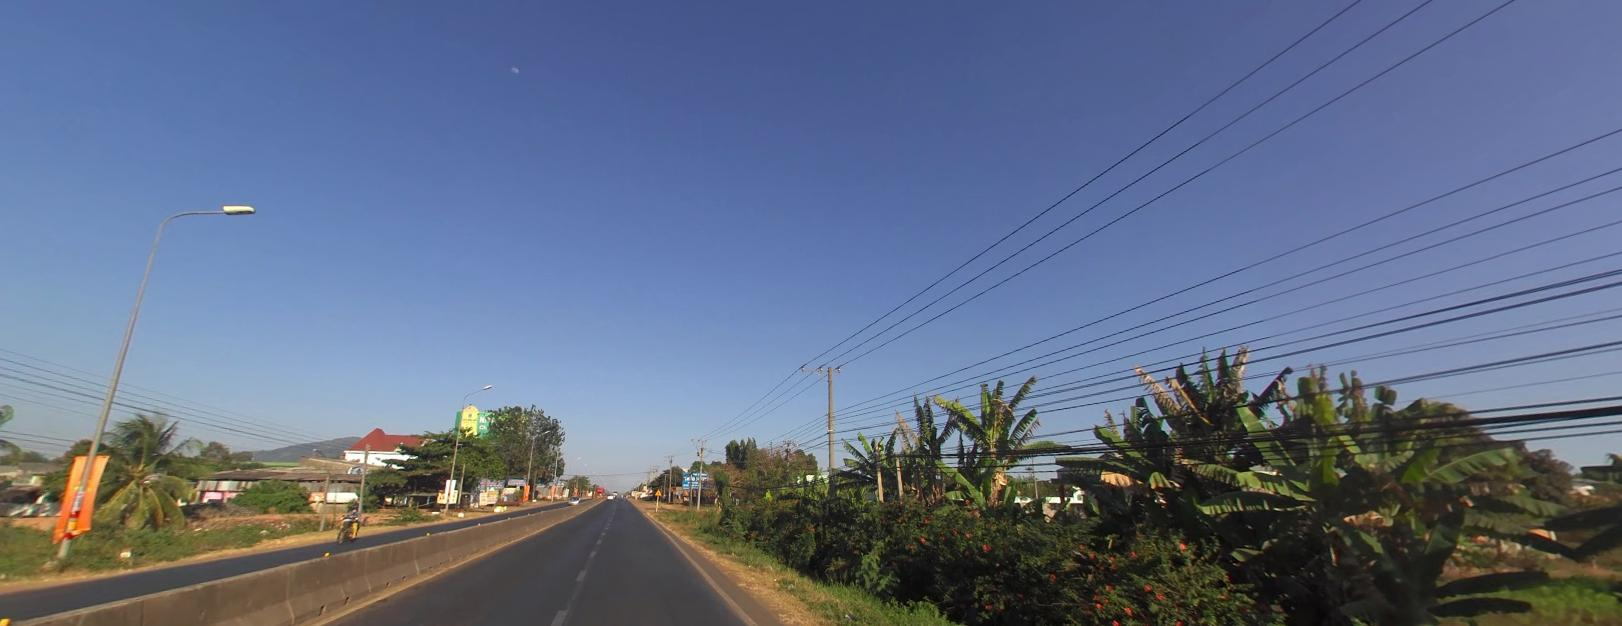Nguy hiem: (654, 487, 662, 494)
